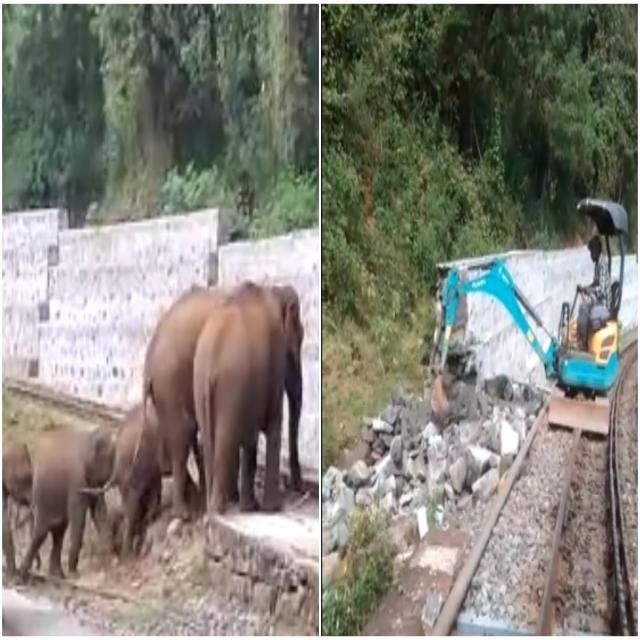Elephant: (193, 266, 303, 518), (23, 406, 117, 566), (144, 302, 188, 501)
